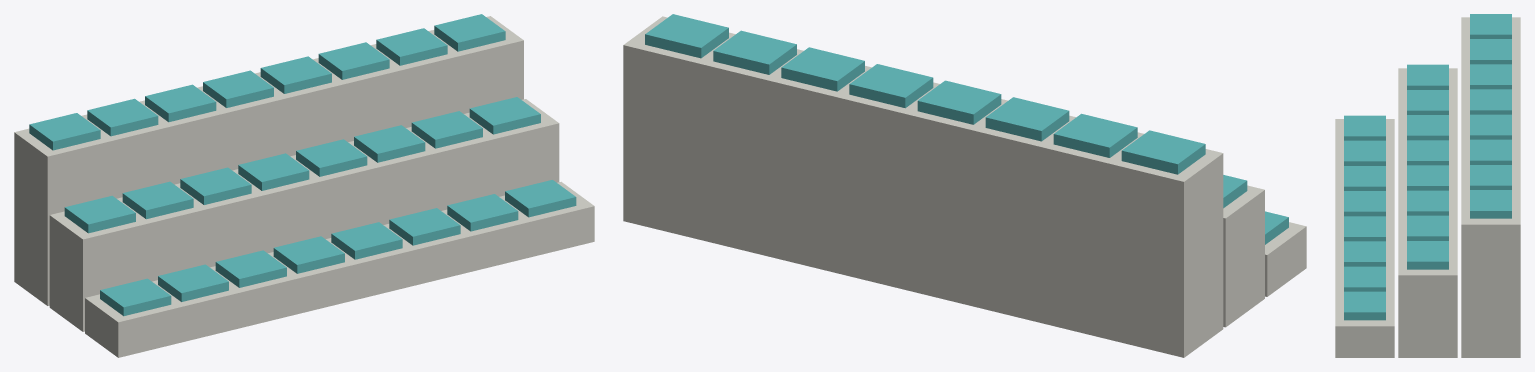
The model's file is bleachers.glb.
3 renders of one model, left to right at view 1: azimuth 30°, elevation 25°; view 2: azimuth 150°, elevation 25°; view 3: azimuth 270°, elevation 25°, orthographic. The views are drawn at different scales.
Visible parts, largest first — view 1: Cubo; view 2: Cubo; view 3: Cubo.
Boxes of the visible parts, <box> form: Cubo: <box>14,14,594,357</box>; Cubo: <box>623,14,1306,357</box>; Cubo: <box>1335,14,1520,357</box>.
Bounding box in the file's own units: 7 × 2.23 × 2.65.
